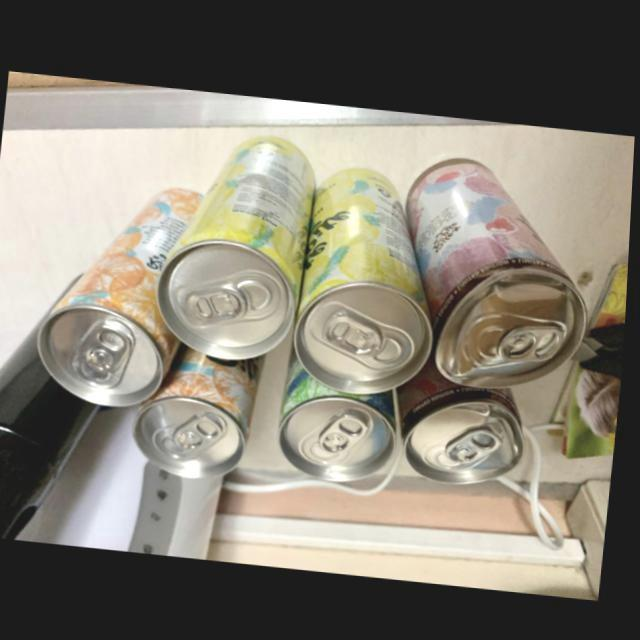aluminum: (408, 152, 590, 383), (40, 186, 206, 407), (159, 135, 319, 358), (296, 162, 438, 391), (135, 343, 267, 476), (282, 349, 406, 481), (401, 360, 531, 479)
